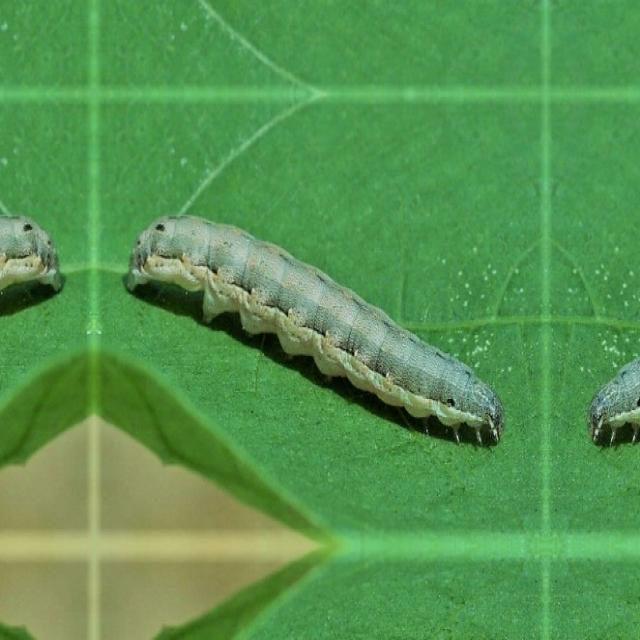armyworm: (123, 212, 504, 447), (0, 212, 62, 296), (586, 354, 639, 448)
